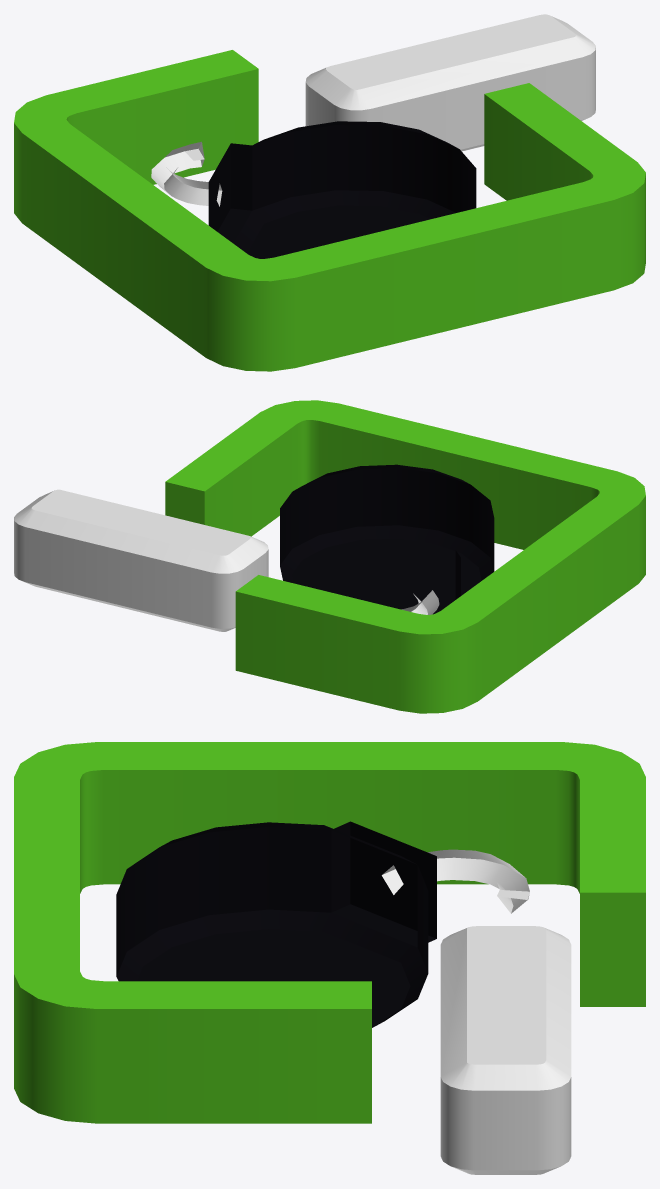
File: BombDown.obj
3 views of the same model, one above another, from view 1: azimuth 30°, elevation 25°; view 2: azimuth 150°, elevation 25°; view 3: azimuth 270°, elevation 25° (orthographic). The views are drawn at different scales.
Visible parts, largest first — view 1: BombDown; view 2: BombDown; view 3: BombDown.
Boxes of the visible parts, bbox=[...] form: BombDown: bbox=[14, 14, 645, 371]; BombDown: bbox=[14, 400, 645, 713]; BombDown: bbox=[14, 742, 645, 1174].
Bounding box in the file's own units: 0.8681 × 0.14 × 0.7.
